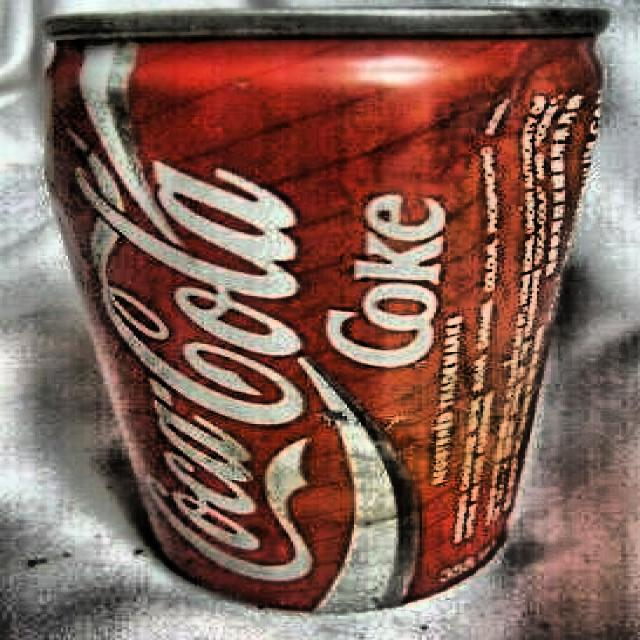Cans: (9, 0, 640, 626)
